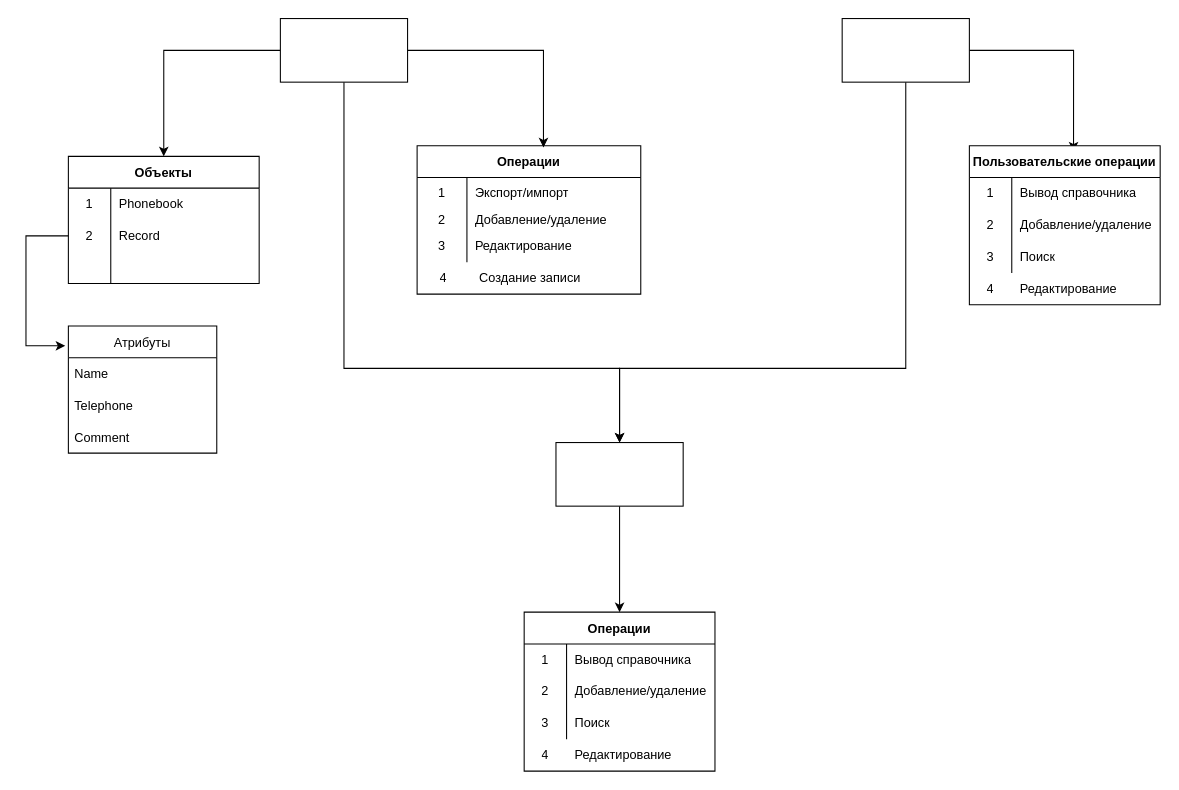
Image size: 1179x790. Some labels were removed from this diagram. Here are the shapes that lost their labels. From the top down, the centre of each, then its label:
At pixel 343 49: "Model".
At pixel 905 49: "View".
At pixel 619 473: "Controller".
